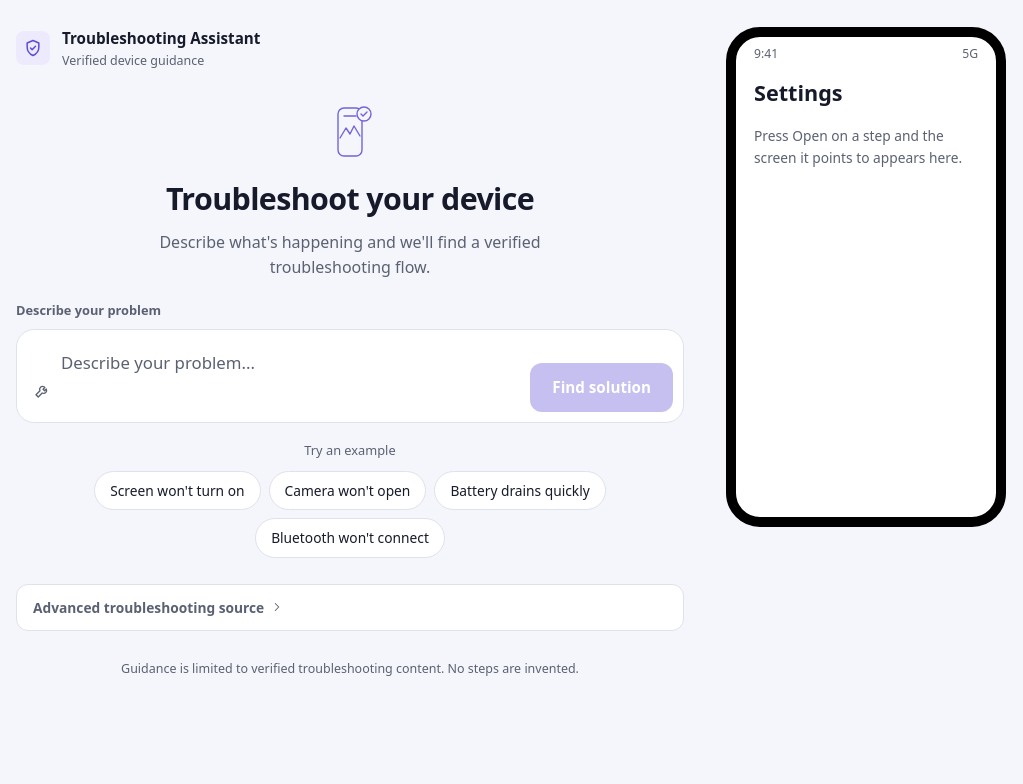
App › fills in the verified Battery example and reaches the cold path
Click the heading "Advanced troubleshooting source".
click(159, 607)  # box [33,598,284,617]
(page scrolled)
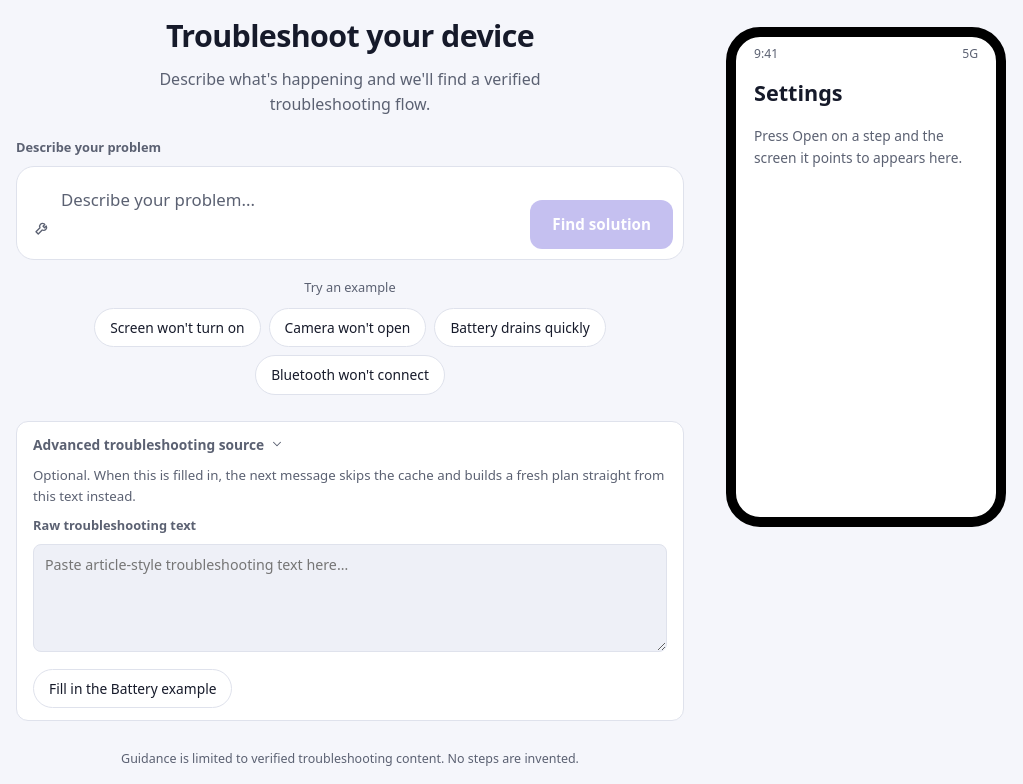
Click the button "Fill in the Battery example".
click(133, 689)  # box [33,669,232,708]
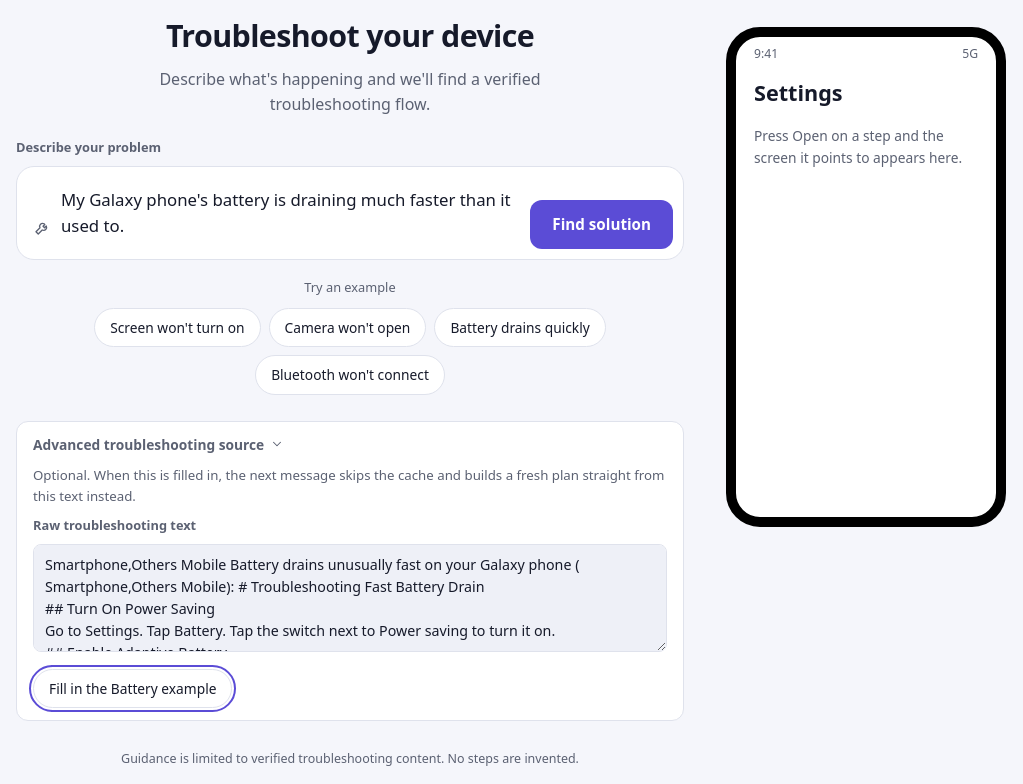
Expected: the text box labelled "Describe your problem" holds "My Galaxy phone's battery is draining much faster than it used to.", [61,177,520,249]
Click the button "Find solution".
click(602, 225)  # box [530,200,673,249]
(page scrolled)
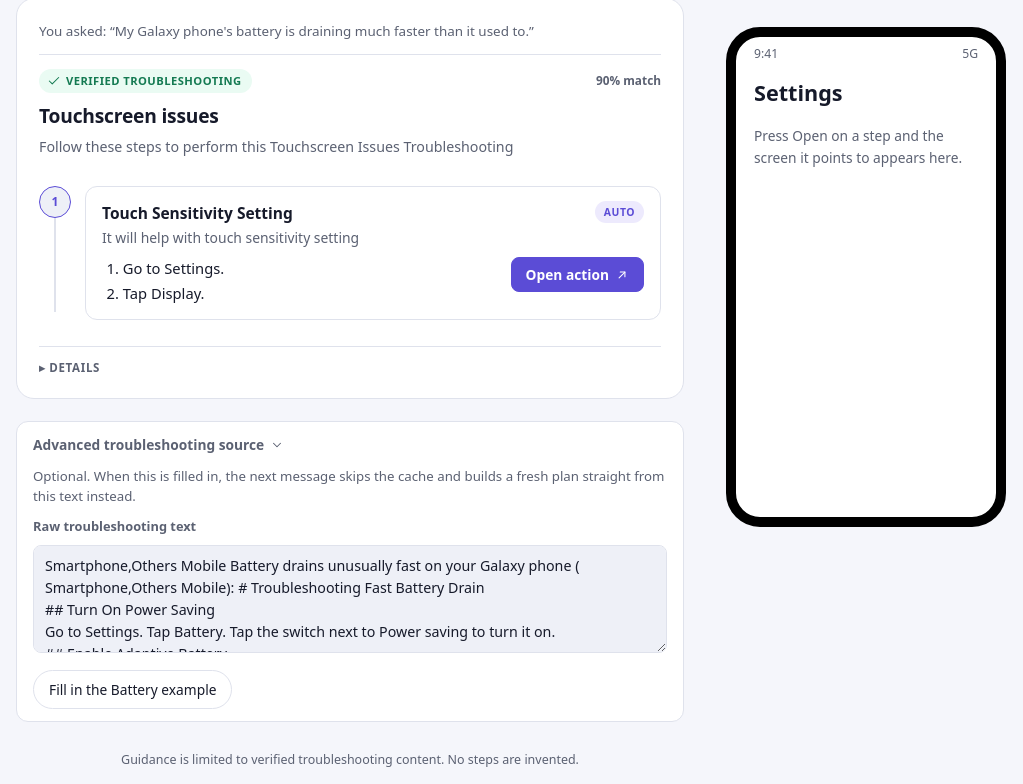
Expected: the text "Follow these steps to perform this Touchscreen Issues Troubleshooting" is shown, [39,137,513,156]
